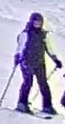skier: (0, 11, 62, 120)
